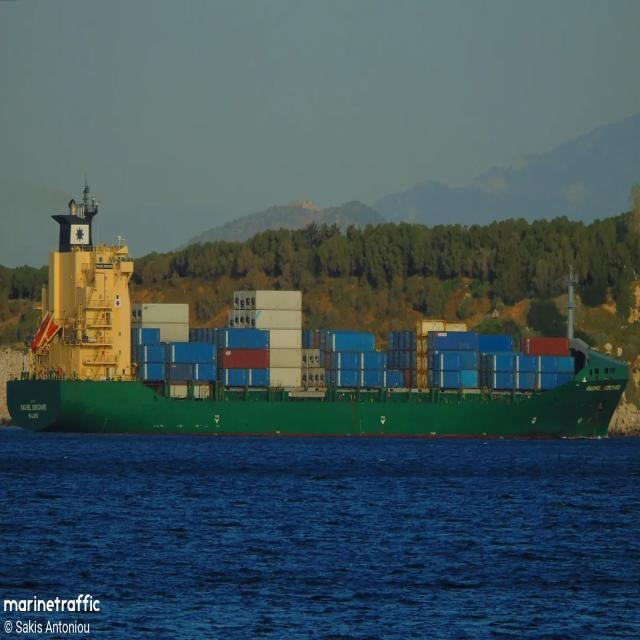Cargo: (7, 188, 629, 437)
